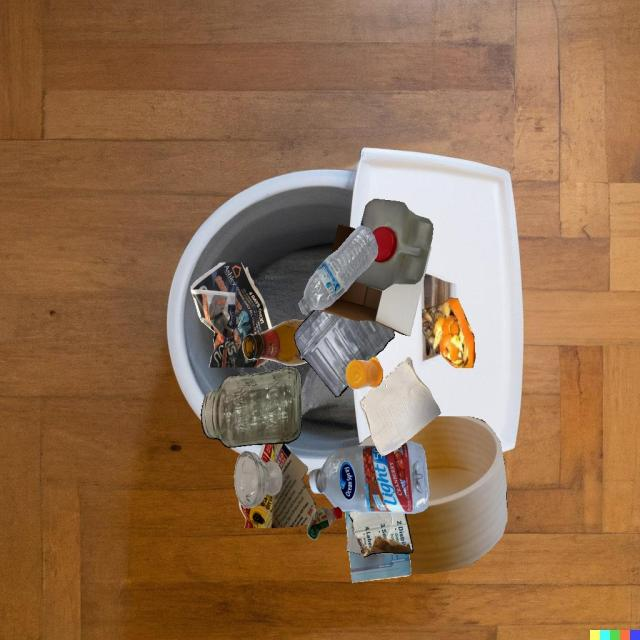biowaste: (422, 298, 475, 368)
cardboard: (318, 247, 431, 336), (349, 511, 413, 557)
combustible waste: (406, 416, 507, 574)
glass: (201, 367, 302, 448), (243, 320, 307, 365), (234, 451, 282, 509)
paper: (191, 262, 272, 367), (359, 357, 441, 456), (239, 443, 316, 528), (349, 552, 411, 582)
plastic: (294, 310, 395, 397), (309, 441, 429, 514), (354, 199, 433, 291), (298, 226, 378, 314), (346, 357, 383, 389), (307, 507, 342, 540), (352, 511, 373, 554), (347, 519, 362, 554)
